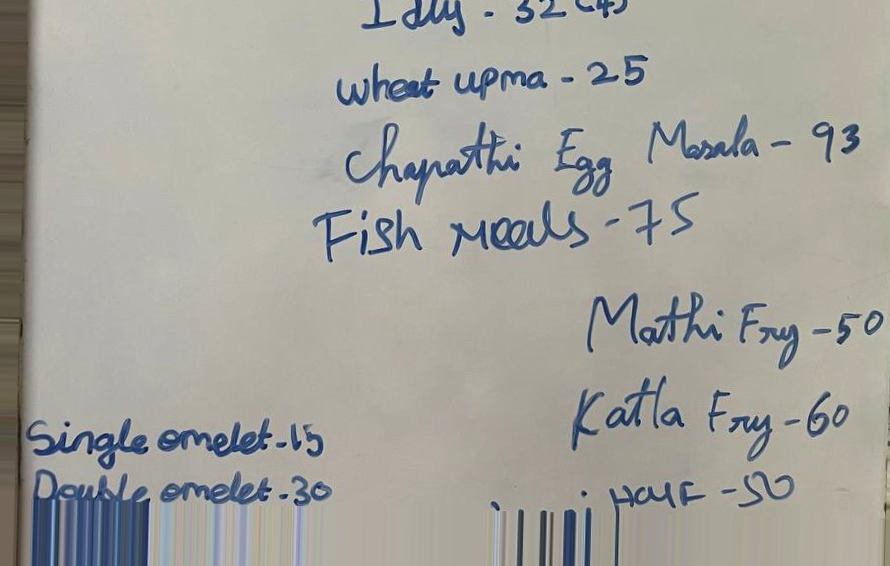chapathi egg masala - 93: (338, 117, 865, 192)
double omelet - 30: (28, 465, 344, 506)
fish Meals - 75: (312, 192, 705, 265)
idly(4) - 32: (355, 1, 634, 37)
katla fry - 60: (565, 374, 854, 459)
mathi fry - 50: (581, 287, 886, 368)
single omelet - 15: (19, 416, 330, 470)
wheat upma - 25: (334, 50, 648, 106)
